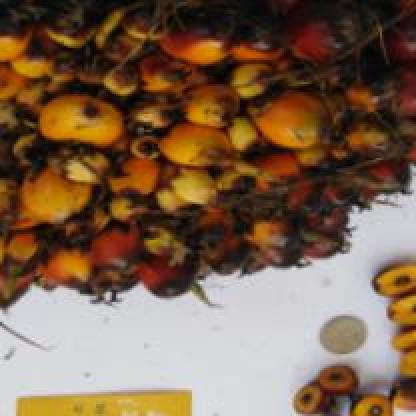underripe: (0, 0, 416, 332)
